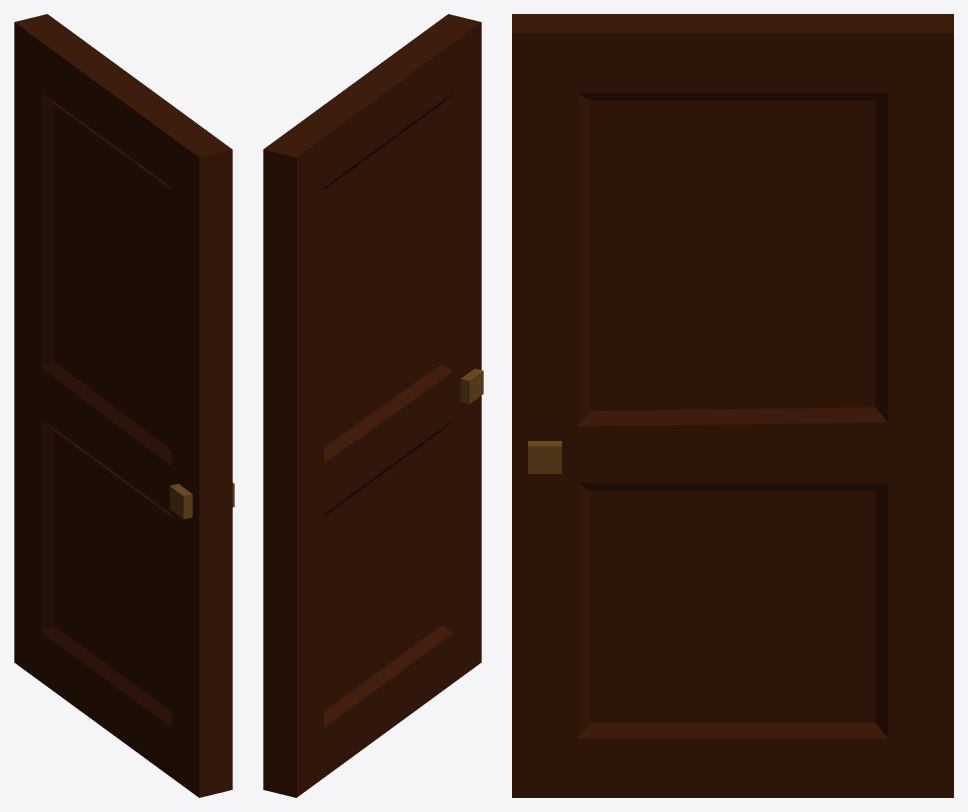
The model's file is Door.fbx.
3 renders of one model, left to right at view 1: azimuth 30°, elevation 25°; view 2: azimuth 150°, elevation 25°; view 3: azimuth 270°, elevation 25°, orthographic. The views are drawn at different scales.
Parts seen in each view (by area): view 1: Door; view 2: Door; view 3: Door.
Boxes of the visible parts, x1,y1,x2,y2 form: Door: (14, 14, 234, 797); Door: (263, 14, 483, 797); Door: (512, 14, 953, 797).
Bounding box in the file's own units: 2428 × 4635 × 387.
